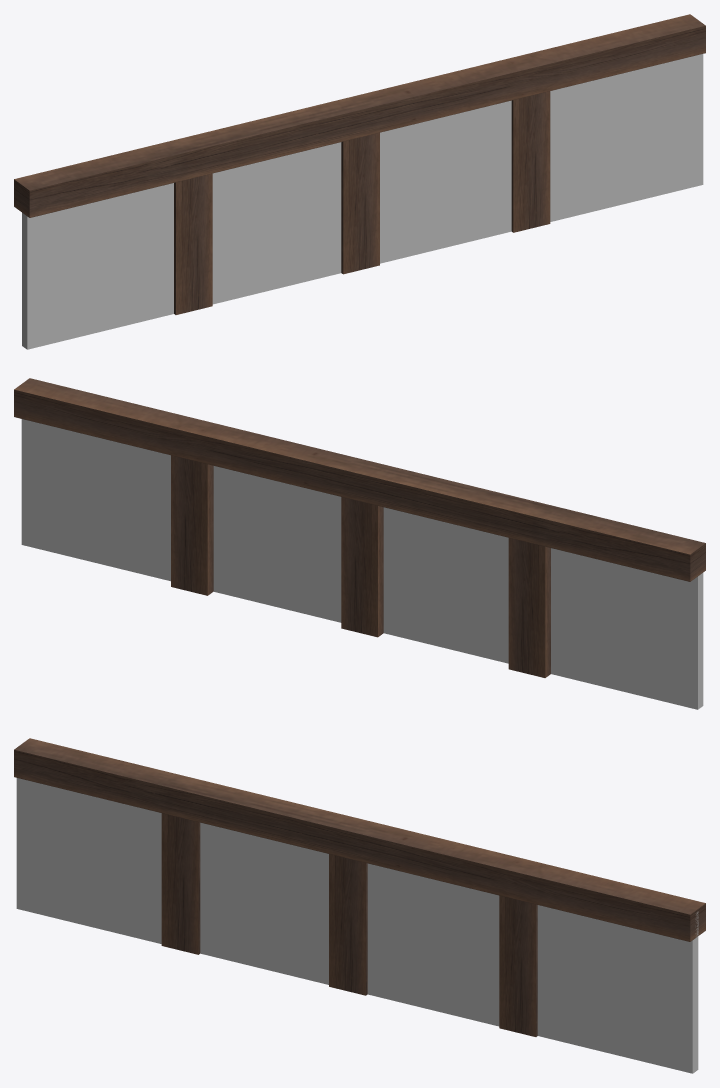
The model's file is jov_lowwall_2t03.fbx.
3 renders of one model, top to bottom at view 1: azimuth 30°, elevation 25°; view 2: azimuth 150°, elevation 25°; view 3: azimuth 330°, elevation 25°, orthographic.
Visible parts, largest first — view 1: jov_lowwall_2t03; view 2: jov_lowwall_2t03; view 3: jov_lowwall_2t03.
Boxes of the visible parts, x1,y1,x2,y2 form: jov_lowwall_2t03: (14,14,705,349); jov_lowwall_2t03: (14,378,705,709); jov_lowwall_2t03: (14,738,705,1073).
Bounding box in the file's own units: 440 × 100 × 17.73.
